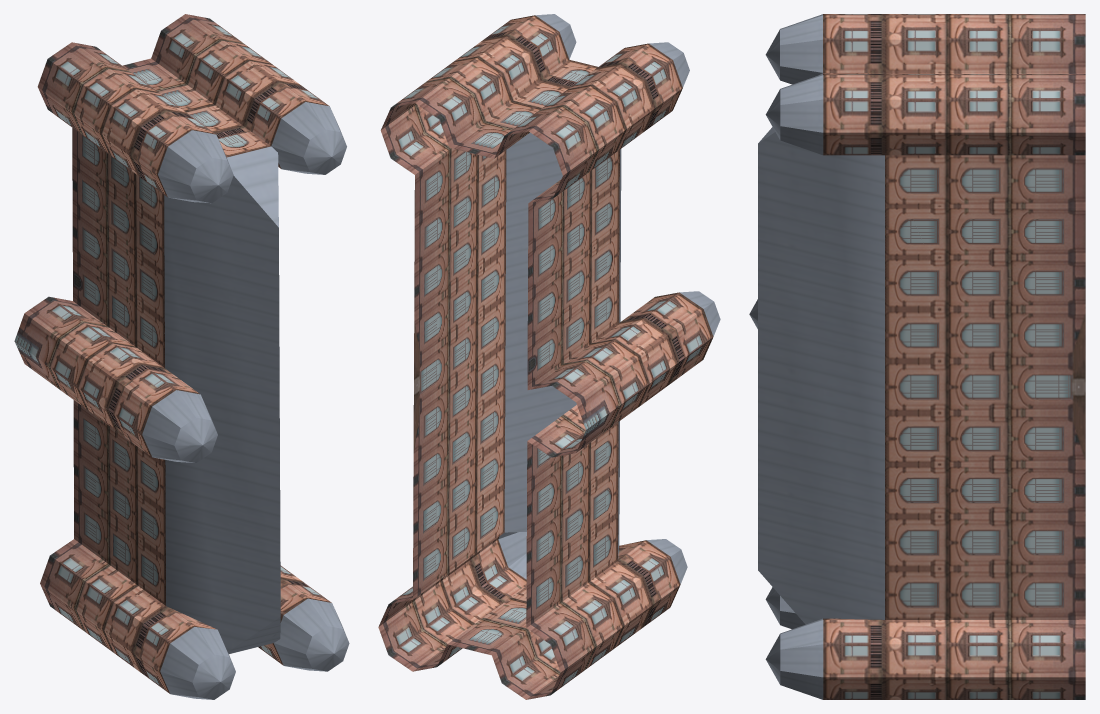
Rendered from DEU_604_KARLSRUHE_SCHLOSS_L.OBJ.
3 renders of one model, left to right at view 1: azimuth 30°, elevation 25°; view 2: azimuth 150°, elevation 25°; view 3: azimuth 270°, elevation 25°, orthographic. The views are drawn at different scales.
Visible parts, largest first — view 1: DEU_604_KARLSRUHE_SCHLOSS_L; view 2: DEU_604_KARLSRUHE_SCHLOSS_L; view 3: DEU_604_KARLSRUHE_SCHLOSS_L.
Boxes of the visible parts, bbox=[...] form: DEU_604_KARLSRUHE_SCHLOSS_L: bbox=[14, 14, 349, 699]; DEU_604_KARLSRUHE_SCHLOSS_L: bbox=[378, 14, 720, 699]; DEU_604_KARLSRUHE_SCHLOSS_L: bbox=[749, 14, 1085, 699].
Size of the model in its own units: 24.18 by 63.34 by 31.01.
Materials: 1 (1 with a texture image).
